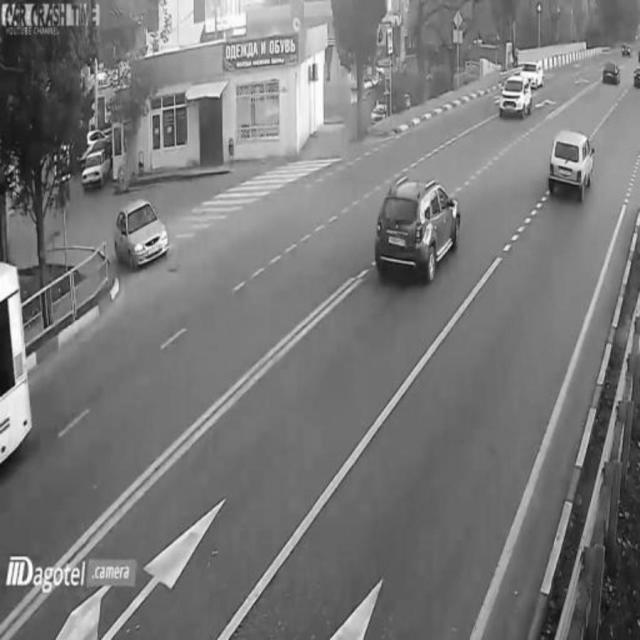vehicle: (378, 171, 462, 281), (113, 197, 171, 273), (546, 128, 597, 201), (501, 65, 531, 123), (80, 149, 112, 189), (601, 54, 621, 89)
